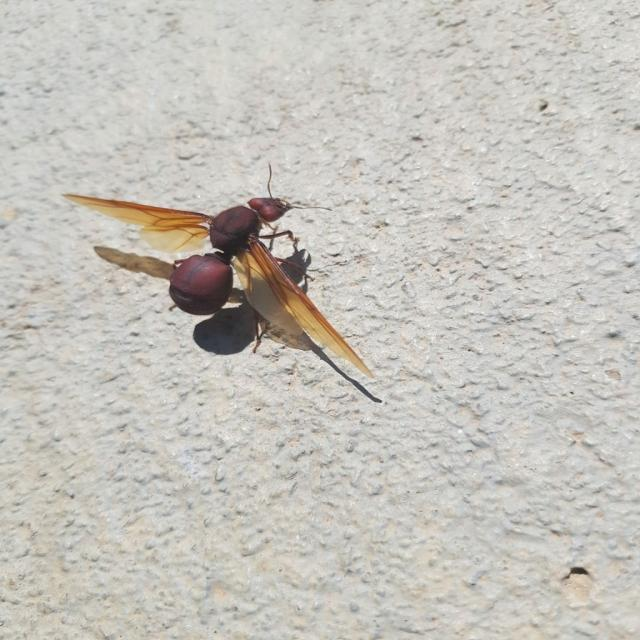Alive-Female-Alate: (60, 160, 375, 378)
